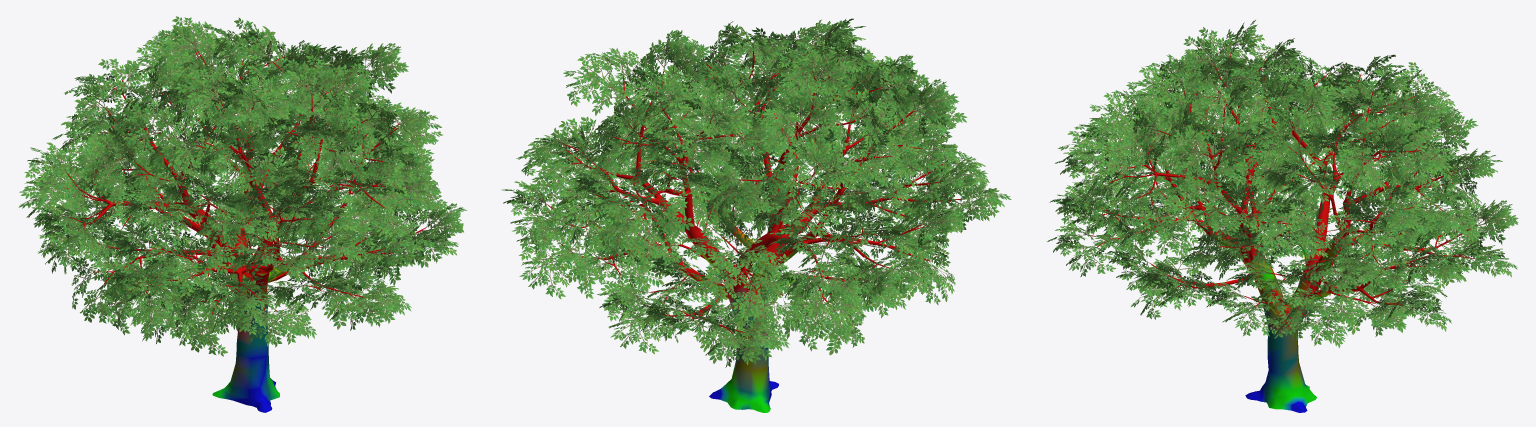
The model's file is MS_BroadTree02.fbx.
3 renders of one model, left to right at view 1: azimuth 30°, elevation 25°; view 2: azimuth 150°, elevation 25°; view 3: azimuth 270°, elevation 25°, orthographic. The views are drawn at different scales.
Visible parts, largest first — view 1: Leaves, TreeBare; view 2: Leaves, TreeBare; view 3: Leaves, TreeBare.
Part boxes in pixels (x1,y1,x2,y2): Leaves: (18,16,467,356); TreeBare: (62,44,426,412); Leaves: (502,18,1011,367); TreeBare: (546,44,961,412); Leaves: (1047,20,1518,348); TreeBare: (1090,52,1476,412).
Size of the model in its own units: 1492 by 1210 by 1518.
